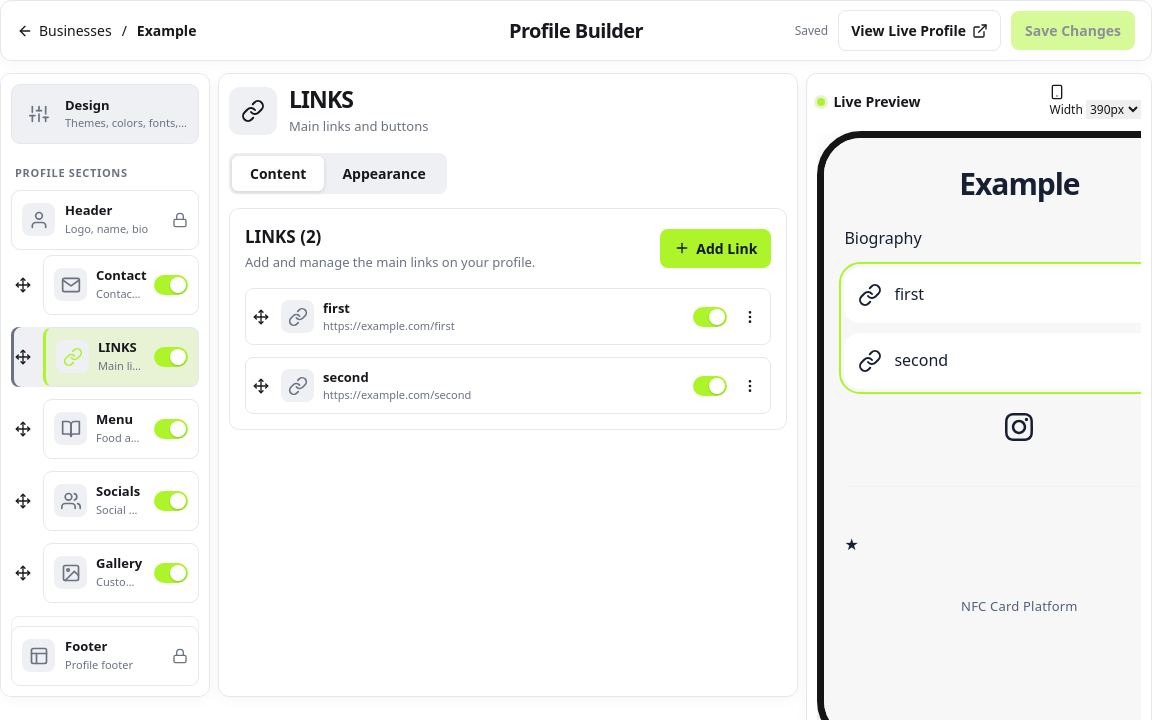
Scenario: mounted approved BuilderV3 shared draft/save path › retains the canonical Short bio draft across section selection without duplicate editors
Click the button "Header Logo, name, bio": click(105, 220) [11,190,199,250]
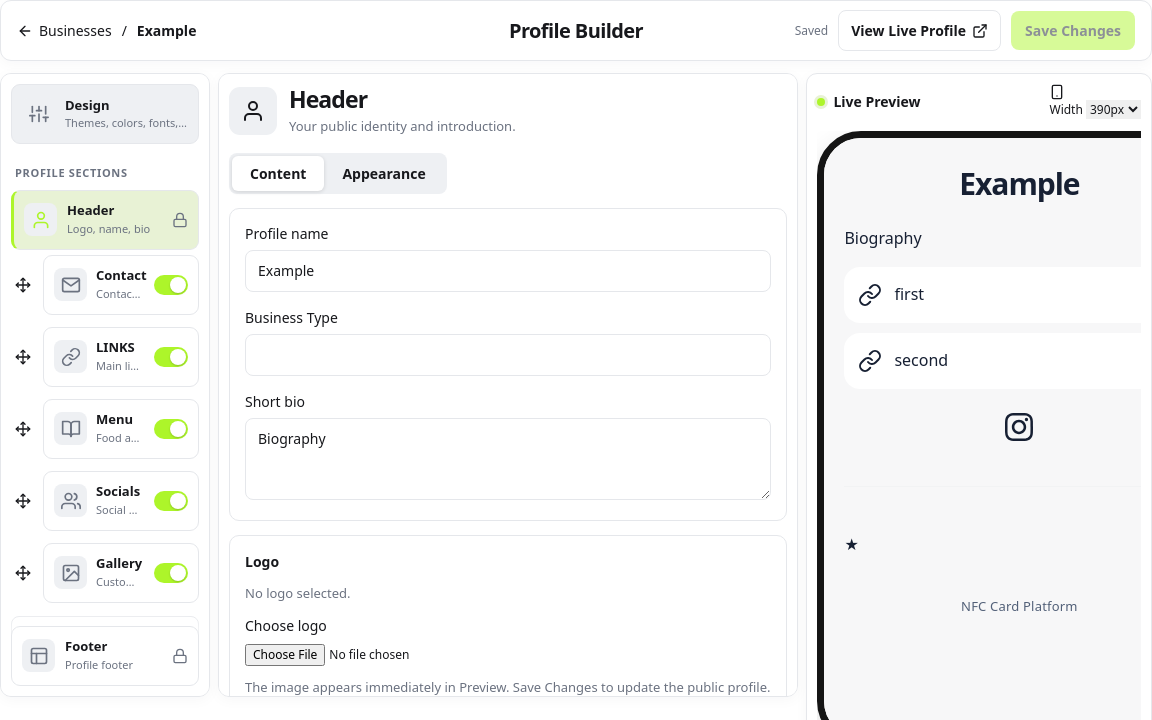
Now the label "Short bio" is shown, box [245,392,771,505]
Replace the text in the text box labelled "Short bio" with "Draft Bio": (508, 459) [245,418,771,500]
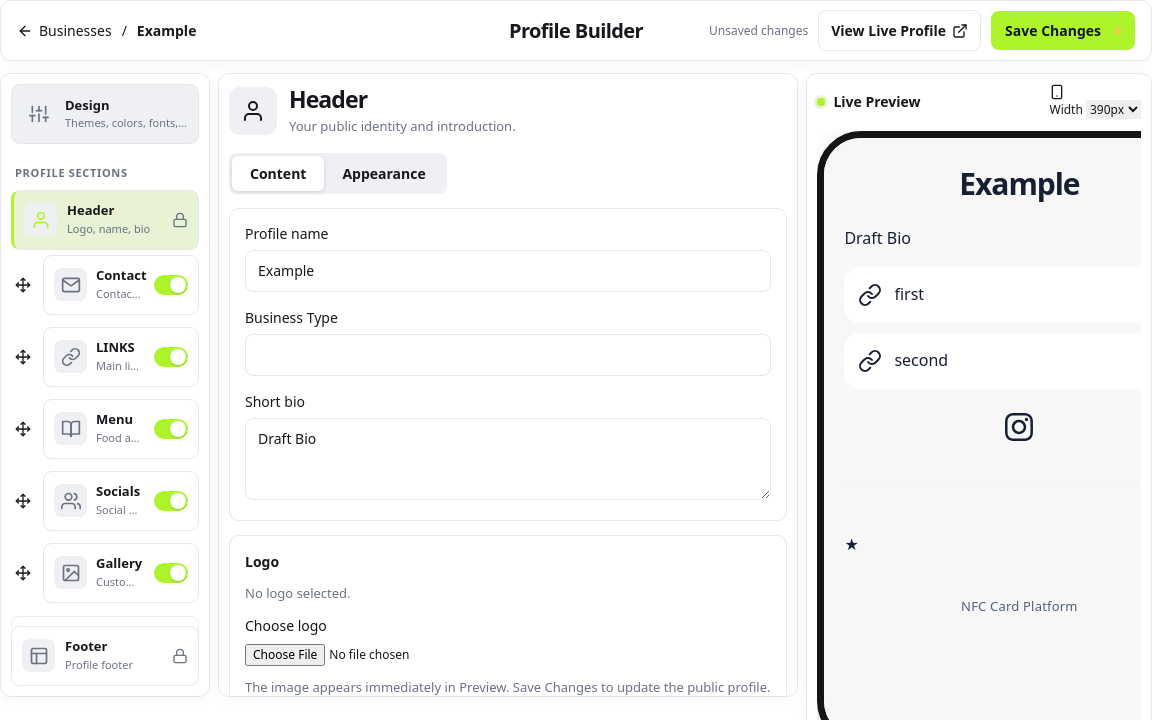
Click the button that starts with "Gallery": click(99, 573) [54,556,144,590]
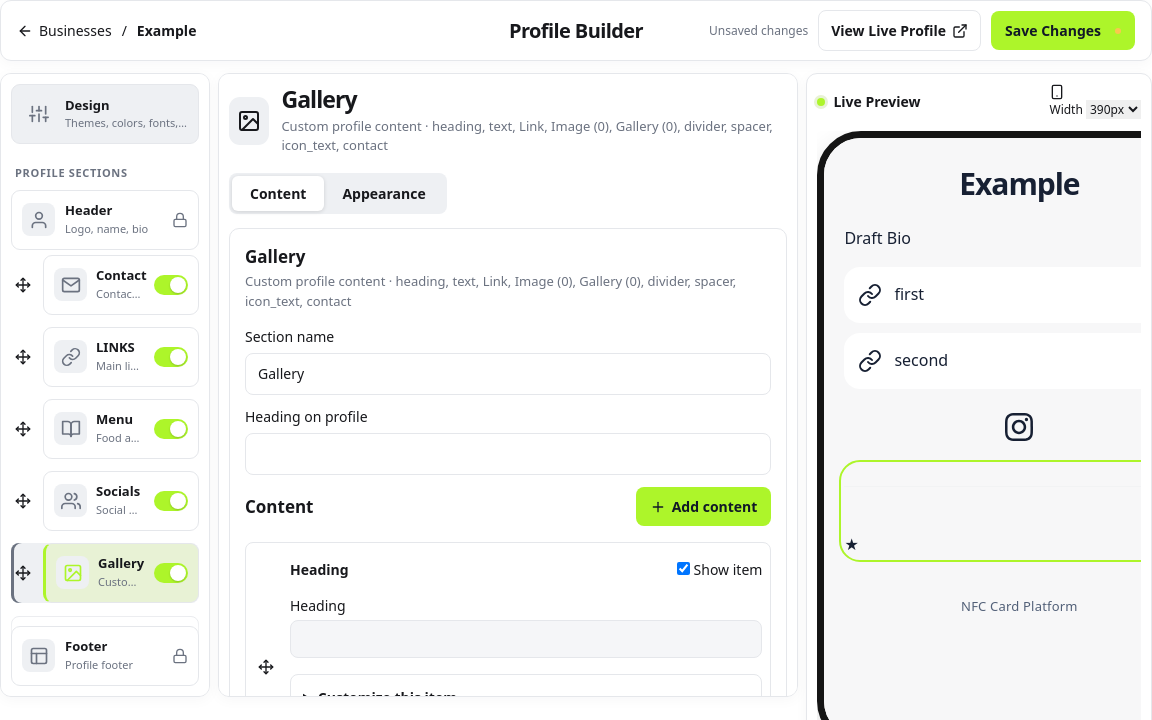
Click the button "Header Logo, name, bio": click(105, 220) [11,190,199,250]
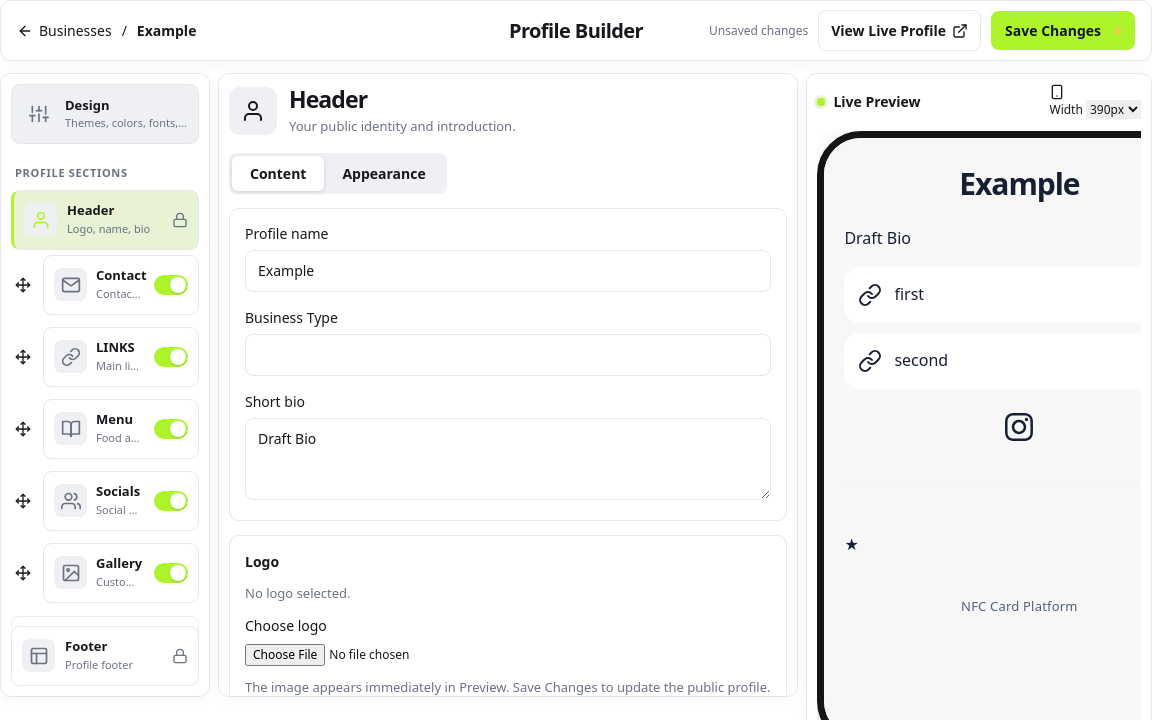
Now the number of text boxes is 1, box [245,418,771,500]
